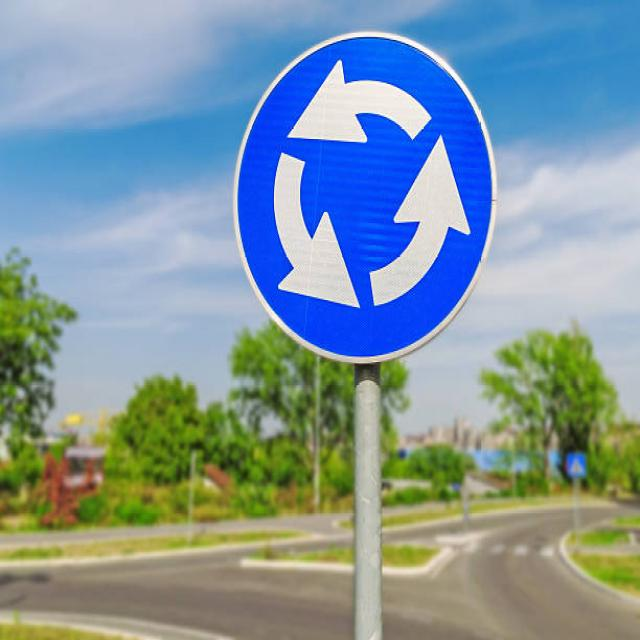round_about: (233, 29, 502, 363)
